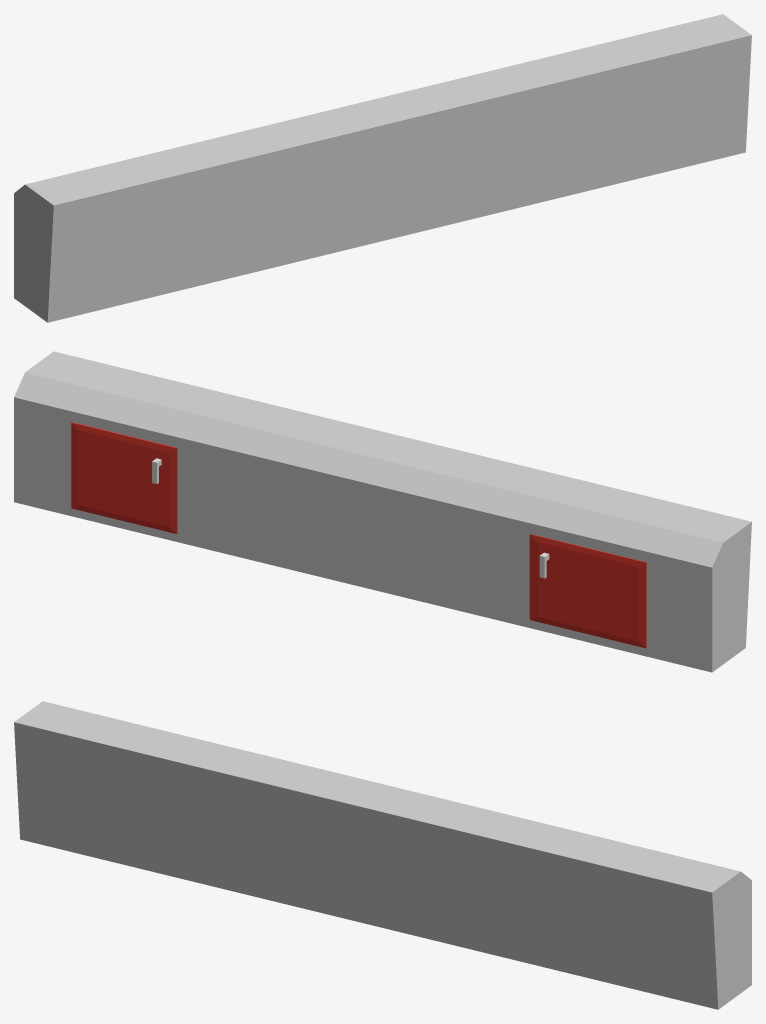
File: Dashboard2.fbx
The picture shows the model from 3 angles, top to bottom: view 1: azimuth 30°, elevation 25°; view 2: azimuth 150°, elevation 25°; view 3: azimuth 330°, elevation 25°; orthographic projection.
Parts seen in each view (by area): view 1: Cube; view 2: Cube, Cube.005, Cube.002; view 3: Cube.
Part boxes in pixels (left/top/right/bottom): Cube: left=14, top=14, right=751, bottom=322; Cube: left=14, top=351, right=751, bottom=672; Cube.005: left=529, top=534, right=646, bottom=648; Cube.002: left=71, top=422, right=177, bottom=533; Cube: left=14, top=701, right=751, bottom=1009.
Size of the model in its own units: 812 by 135 by 91.56.
